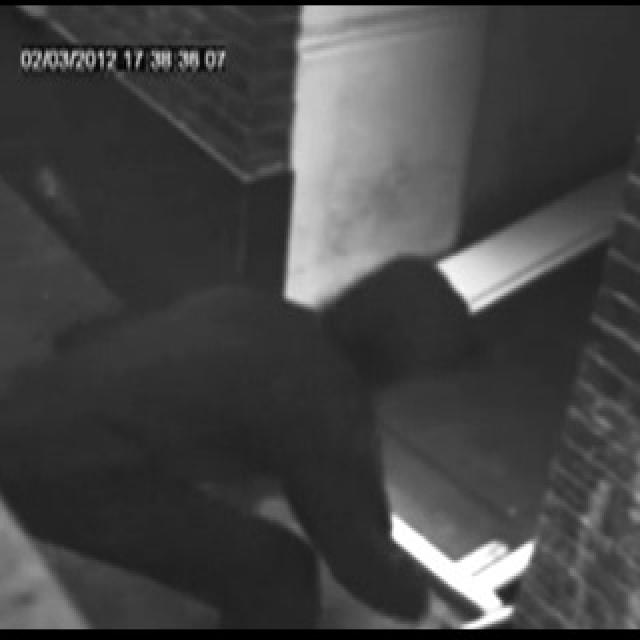thief: (296, 222, 477, 435)
